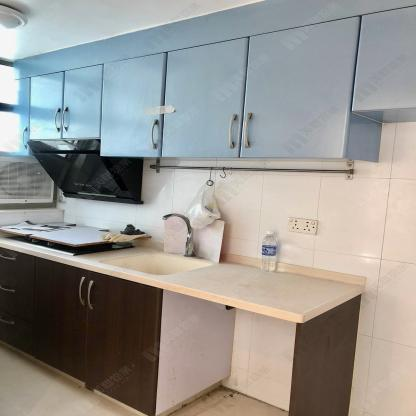Cupboard: (9, 16, 364, 156), (0, 249, 161, 416)
Exhaust Hood: (27, 139, 143, 206)
Faucet: (159, 210, 198, 261)
Sink: (98, 253, 213, 274)
